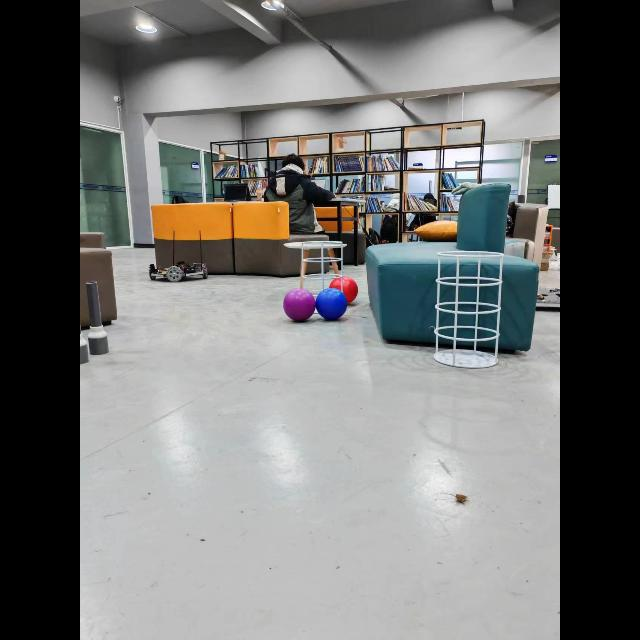B: (316, 288, 348, 320), (340, 308, 344, 310)
P: (284, 289, 316, 321)
R: (330, 276, 359, 303)
S: (434, 250, 504, 368), (284, 241, 345, 289)
